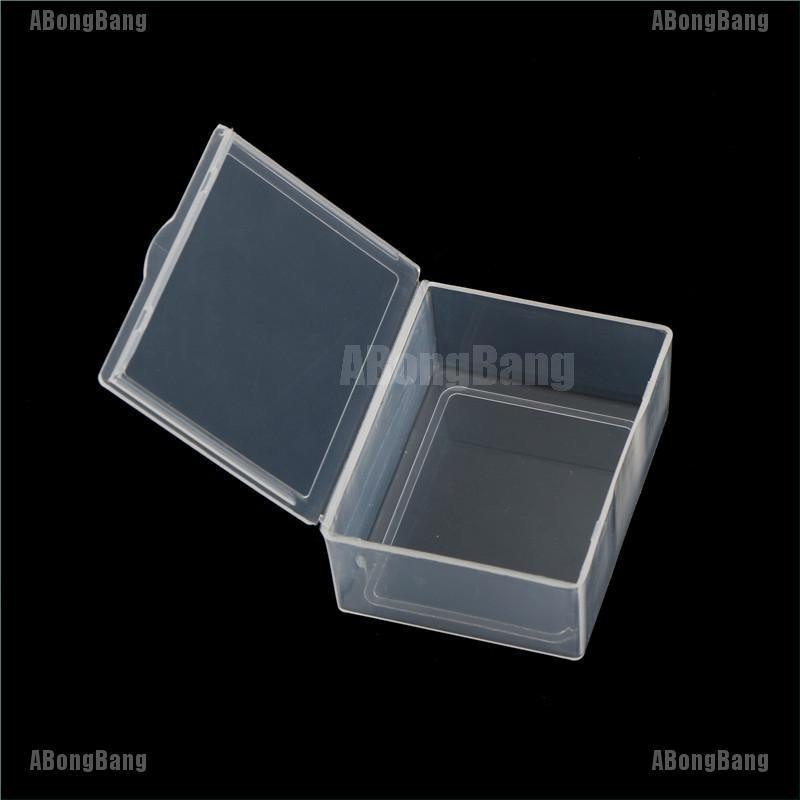PlasticBox: (86, 118, 680, 668)
